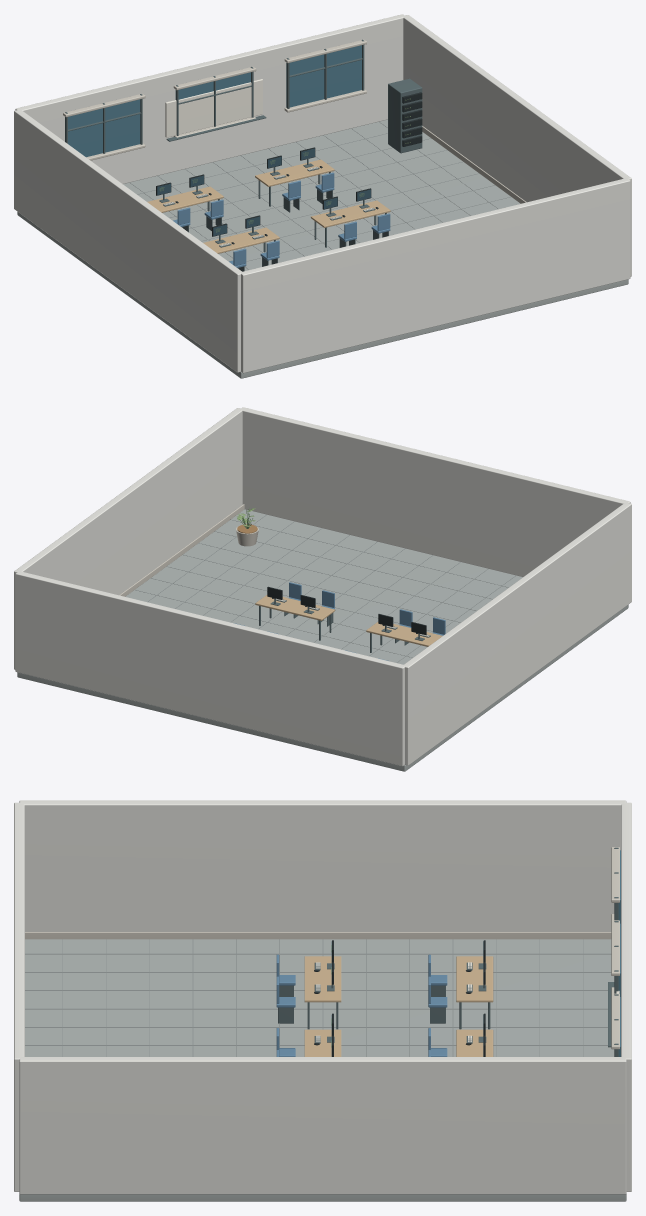
File: workshop.glb
The picture shows the model from 3 angles, top to bottom: view 1: azimuth 30°, elevation 25°; view 2: azimuth 150°, elevation 25°; view 3: azimuth 270°, elevation 25°; orthographic projection. The views are drawn at different scales.
Parts seen in each view (by area): view 1: white, paving, glass, metal, oak, paper, stone, grout, blue, black, screen; view 2: white, paving, grout, oak, stone, blue, black, metal; view 3: white, paving, stone, grout, oak, metal, blue.
Part boxes in pixels (left/top/right/bottom): white: left=14, top=14, right=631, bottom=373; paving: left=17, top=119, right=628, bottom=378; glass: left=68, top=45, right=361, bottom=157; metal: left=65, top=39, right=422, bottom=271; oak: left=147, top=159, right=390, bottom=253; paper: left=163, top=79, right=373, bottom=246; stone: left=63, top=39, right=526, bottom=203; grout: left=130, top=121, right=510, bottom=269; blue: left=173, top=172, right=390, bottom=267; black: left=156, top=92, right=422, bottom=244; screen: left=157, top=148, right=370, bottom=236; white: left=14, top=407, right=631, bottom=766; paving: left=17, top=509, right=628, bottom=771; grout: left=135, top=514, right=515, bottom=662; oak: left=255, top=595, right=442, bottom=646; stone: left=119, top=504, right=258, bottom=596; blue: left=234, top=582, right=445, bottom=661; black: left=267, top=586, right=426, bottom=634; metal: left=259, top=598, right=430, bottom=652; white: left=14, top=800, right=631, bottom=1194; paving: left=19, top=939, right=626, bottom=1201; stone: left=25, top=847, right=619, bottom=1049; grout: left=25, top=939, right=611, bottom=1056; oak: left=304, top=956, right=493, bottom=1056; metal: left=278, top=847, right=618, bottom=1056; blue: left=276, top=954, right=447, bottom=1056.
Bounding box in the file's own units: 14.25 × 3.64 × 14.25.
